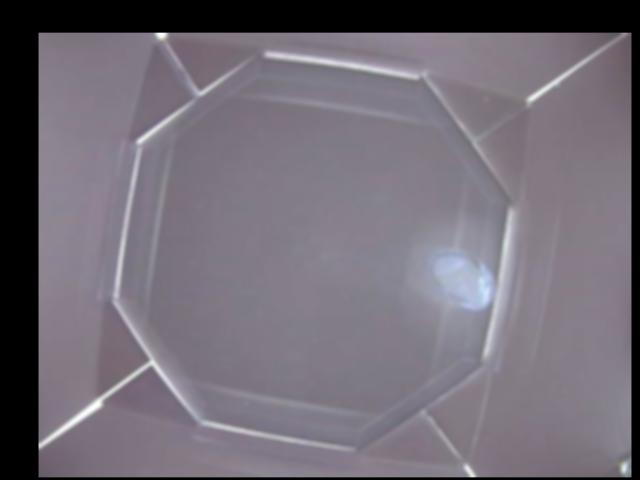Pebble: (434, 248, 497, 316)
